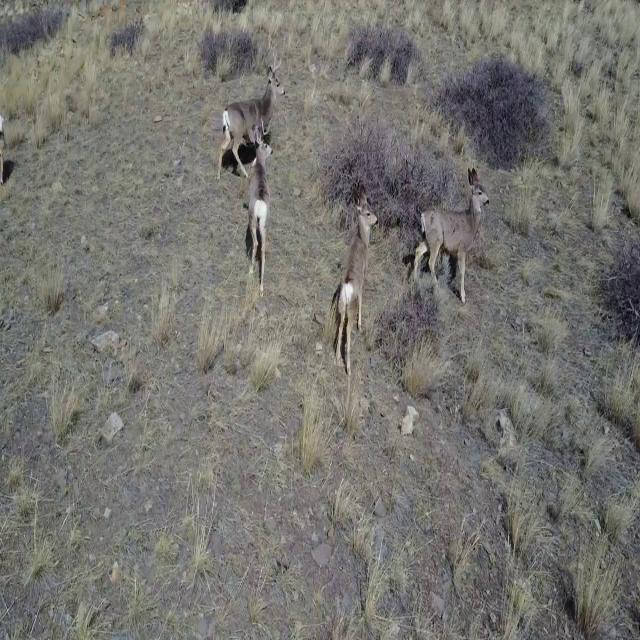Deer: (413, 167, 493, 307), (215, 51, 284, 180), (333, 190, 378, 382), (246, 127, 276, 301)
